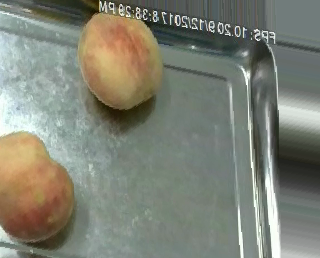Peach: (78, 7, 161, 108), (0, 131, 75, 242)
